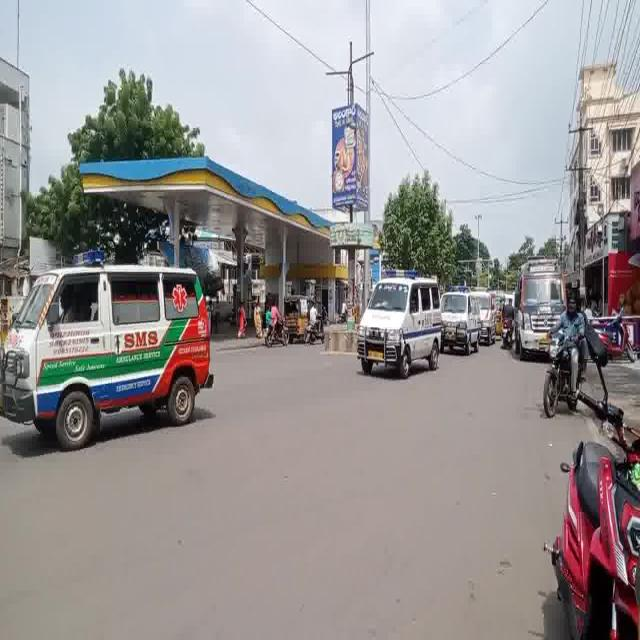ambulance: (1, 243, 230, 442), (343, 263, 440, 387), (509, 258, 573, 313), (446, 276, 476, 376), (482, 285, 492, 358)
